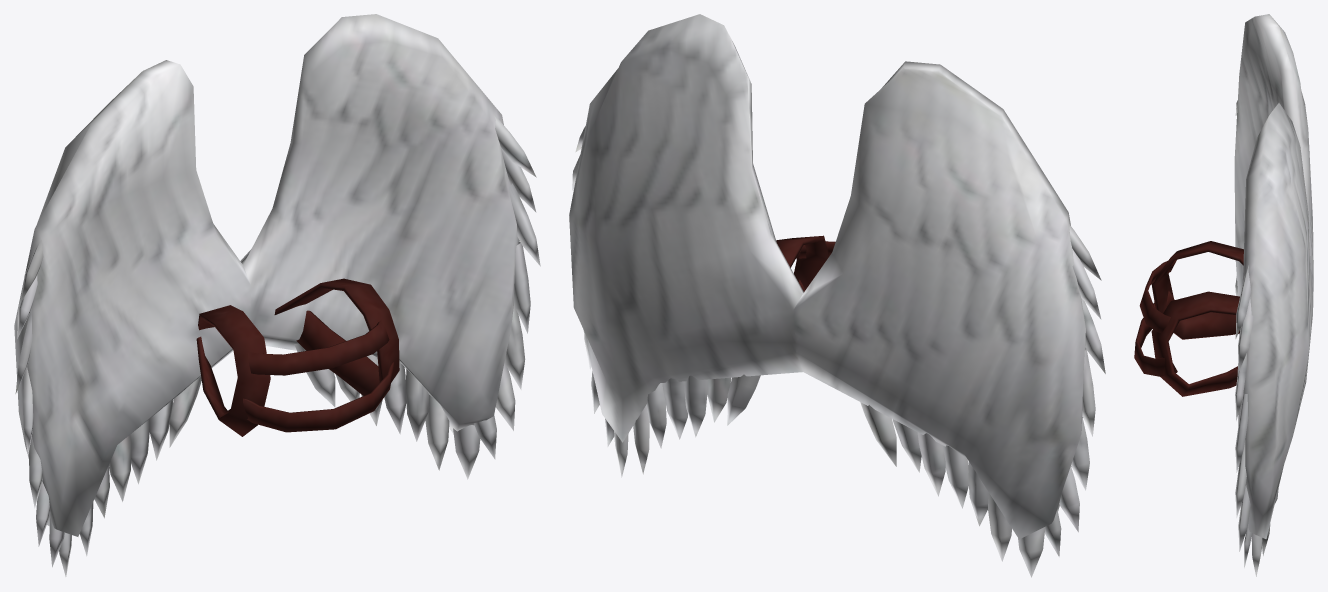
File: angel wings.fbx
3 views of the same model, side by side, from view 1: azimuth 30°, elevation 25°; view 2: azimuth 150°, elevation 25°; view 3: azimuth 270°, elevation 25° (orthographic). The views are drawn at different scales.
Visible parts, largest first — view 1: angel wings; view 2: angel wings; view 3: angel wings.
Boxes of the visible parts, <box> form: angel wings: <box>14,14,540,576</box>; angel wings: <box>569,14,1105,577</box>; angel wings: <box>1134,14,1313,576</box>.
Size of the model in its own units: 220 by 192 by 73.41.
Materials: 1 (1 with a texture image).
